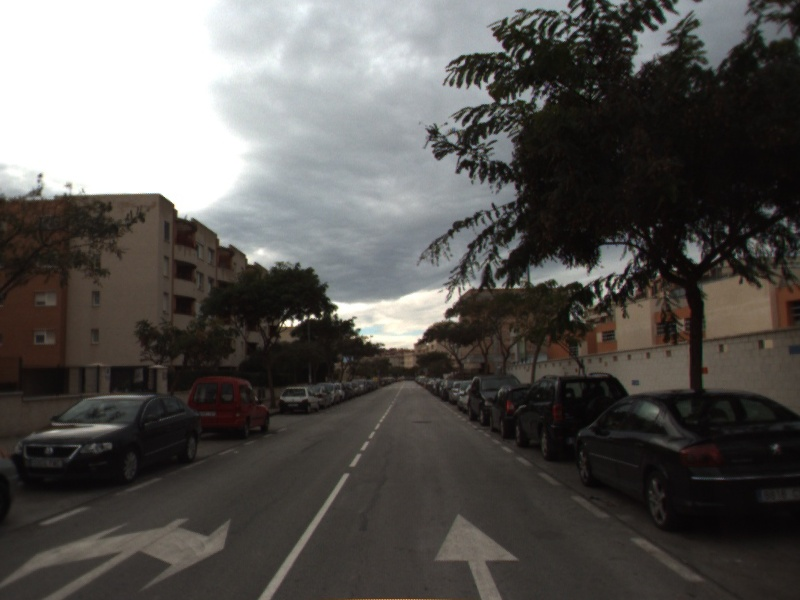STRAIGHT: (430, 509, 522, 600)
